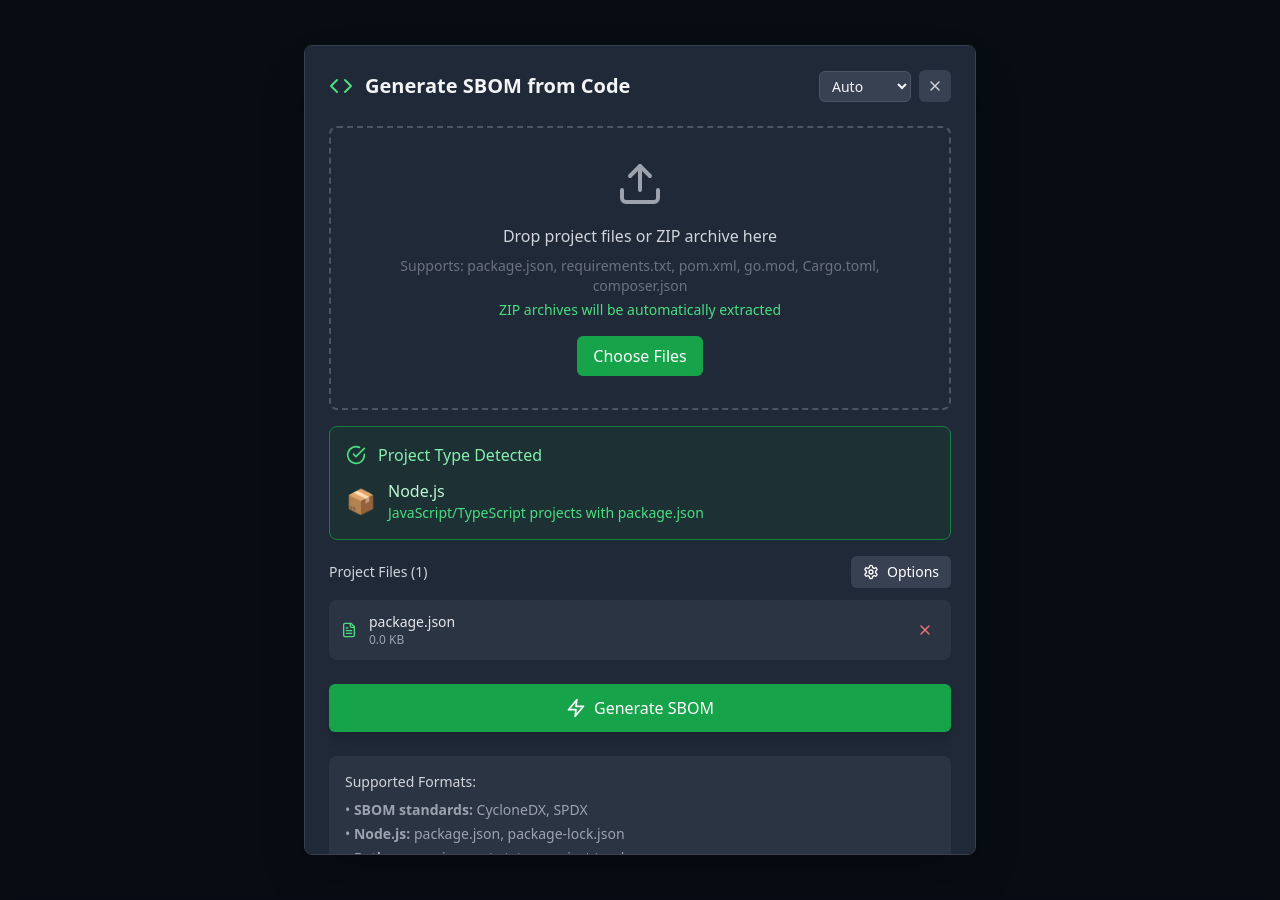
Test: CodeUploader › should remove uploaded files
Earlier steps of the test are not shown.
Check: the heading "Project Files (1)" is shown, box [329,562,428,582]
Click the button titled "Remove file" at [925, 630], box [911,616,939,644]
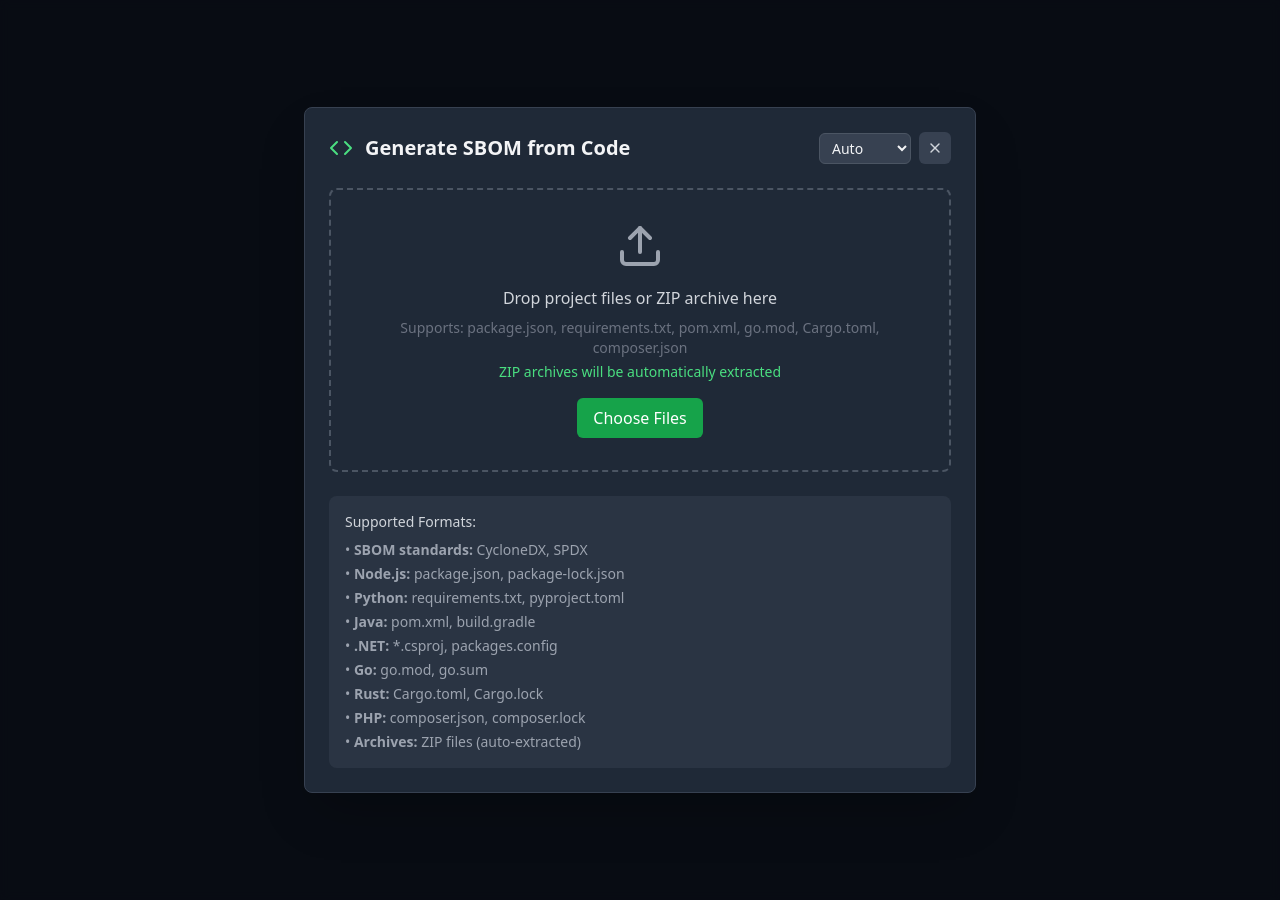
Check: the heading "Project Files (1)" is gone
